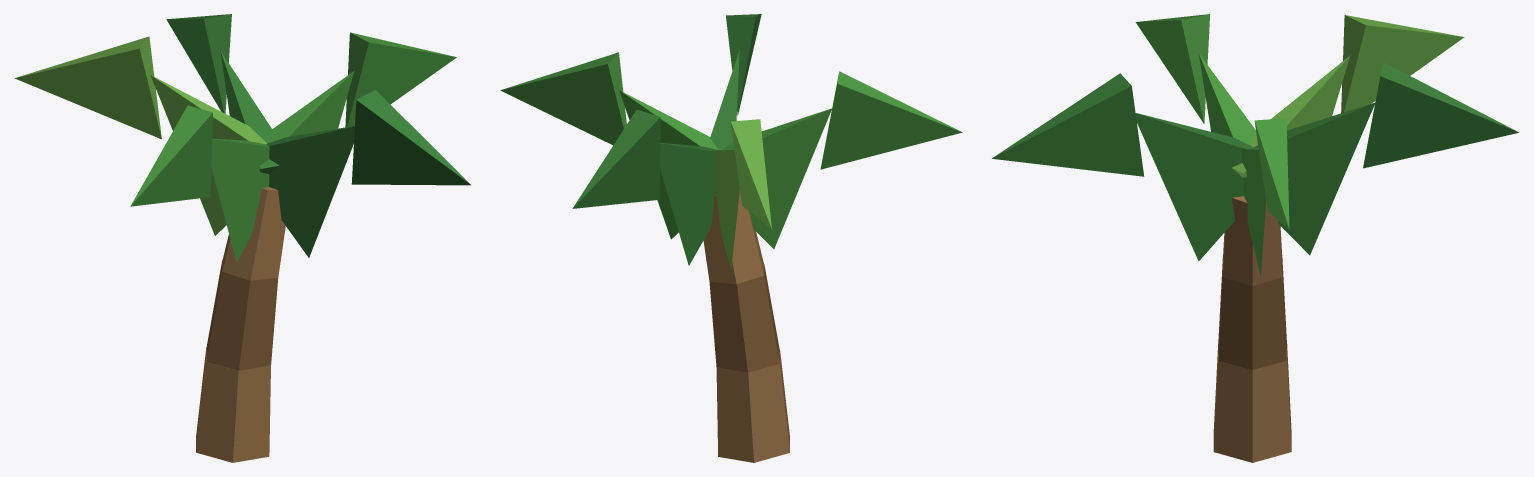
File: palmtree-2.glb
3 views of the same model, side by side, from view 1: azimuth 30°, elevation 25°; view 2: azimuth 150°, elevation 25°; view 3: azimuth 270°, elevation 25° (orthographic). The views are drawn at different scales.
Parts seen in each view (by area): view 1: palmtree-2; view 2: palmtree-2; view 3: palmtree-2.
Boxes of the visible parts, x1,y1,x2,y2 form: palmtree-2: (14,14,470,462); palmtree-2: (500,14,962,462); palmtree-2: (992,14,1518,462).
Size of the model in its own units: 0.3266 by 0.2974 by 0.353.
Materials: 1 (1 with a texture image).
